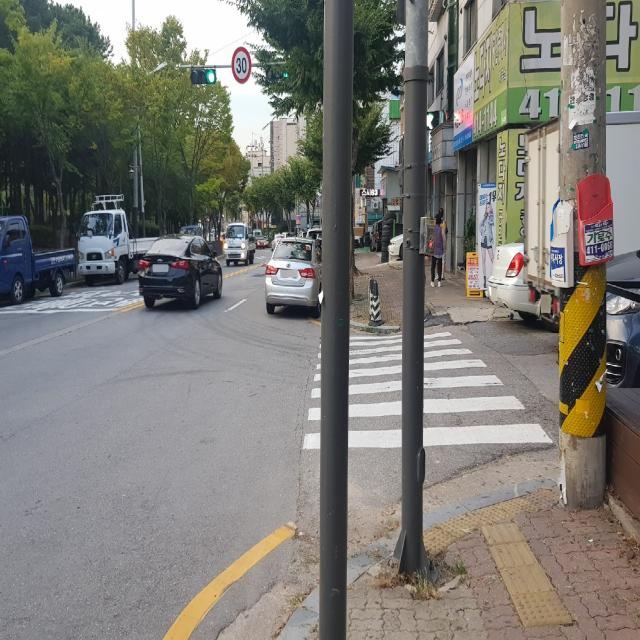횡단보도: (300, 328, 555, 452)
